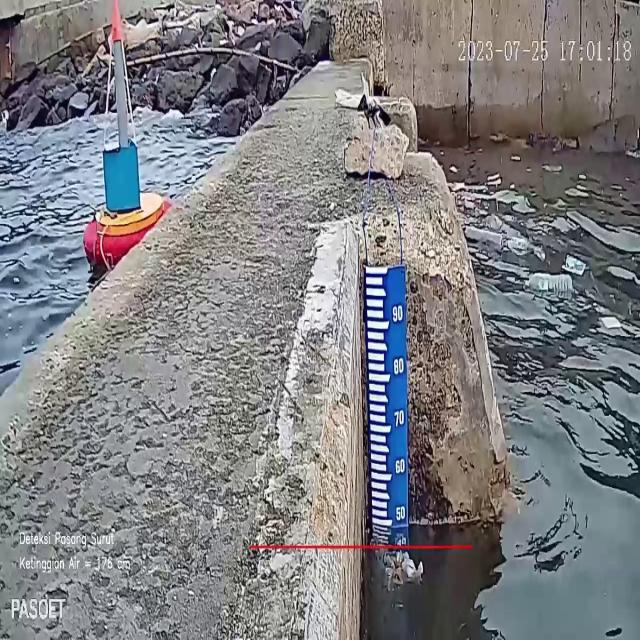50: (395, 503, 406, 522)
60: (395, 457, 406, 474)
70: (394, 408, 405, 426)
80: (393, 357, 405, 375)
90: (392, 305, 403, 323)
staff: (366, 265, 408, 528)
